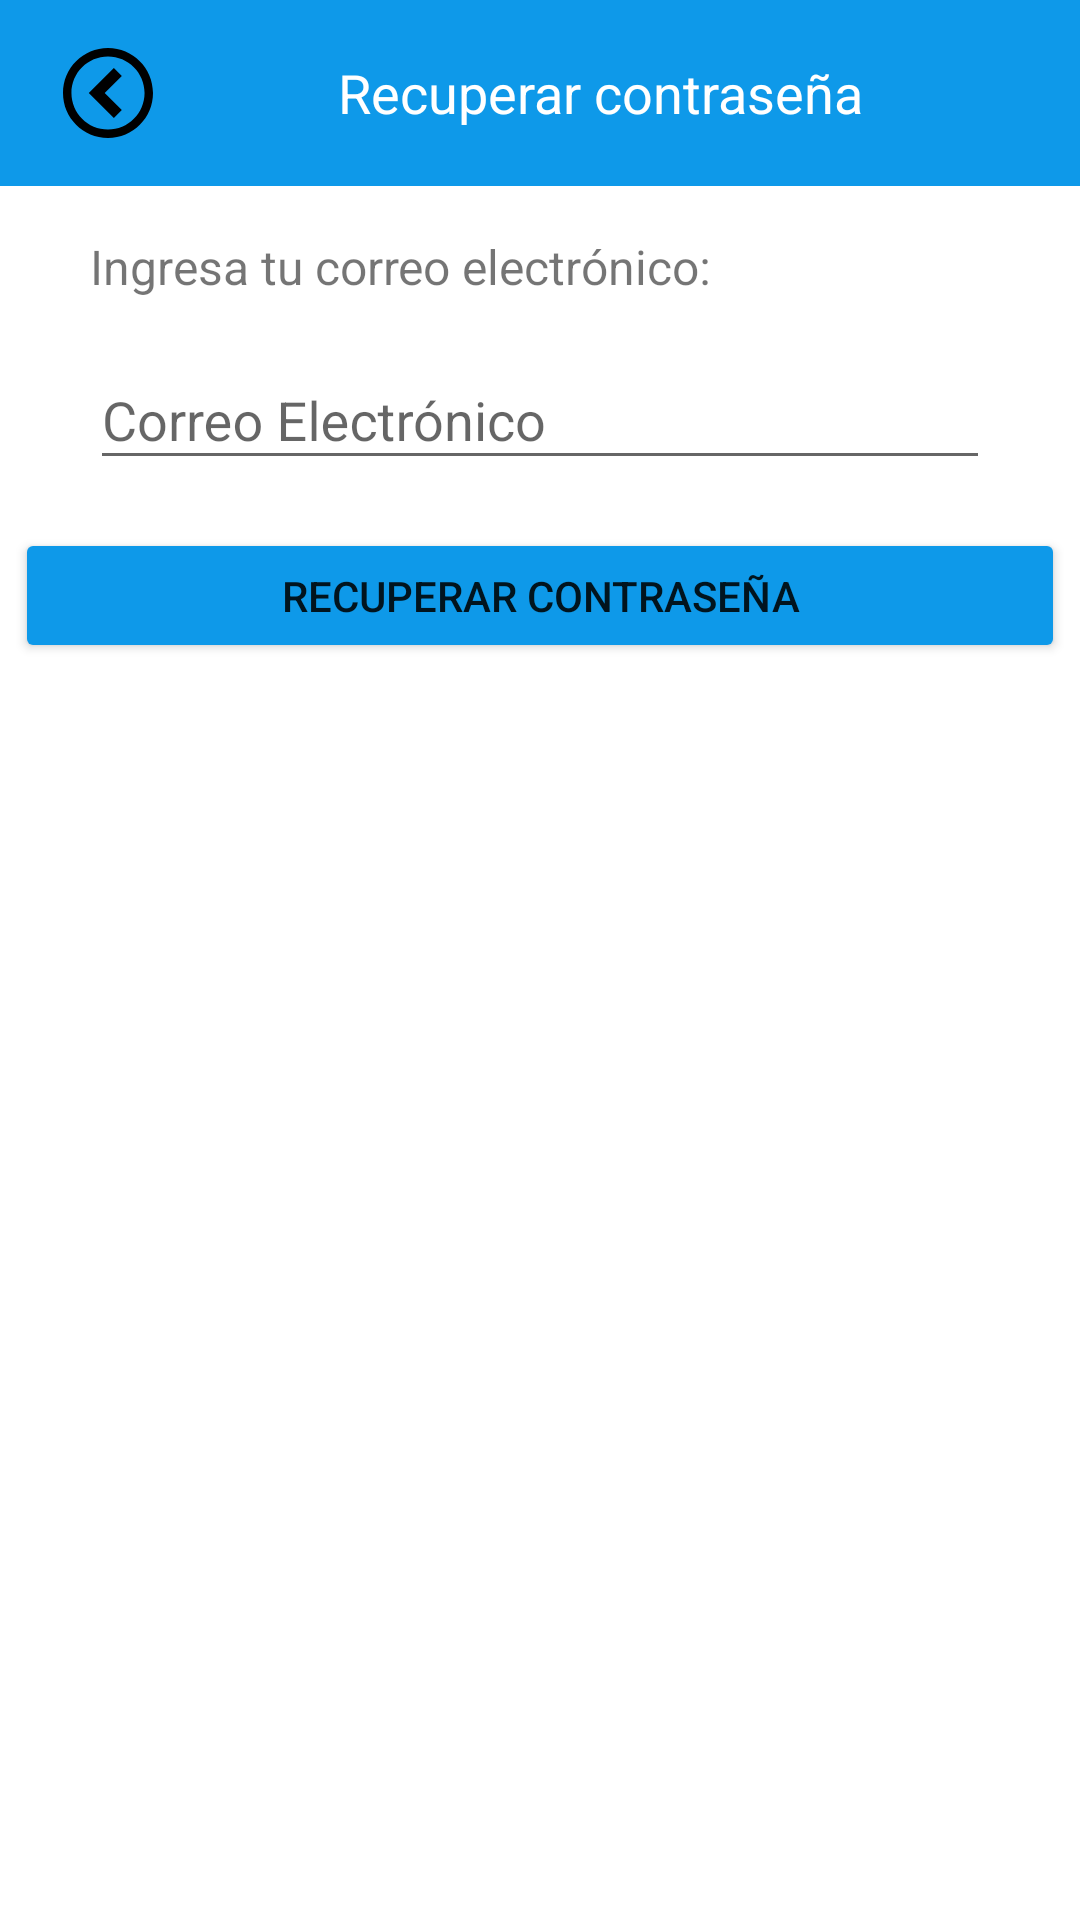

Where icons sit on this 1080px x 1920px app screen, as (x1, y1, x2, y2):
arrow left: (63, 48, 153, 138)
